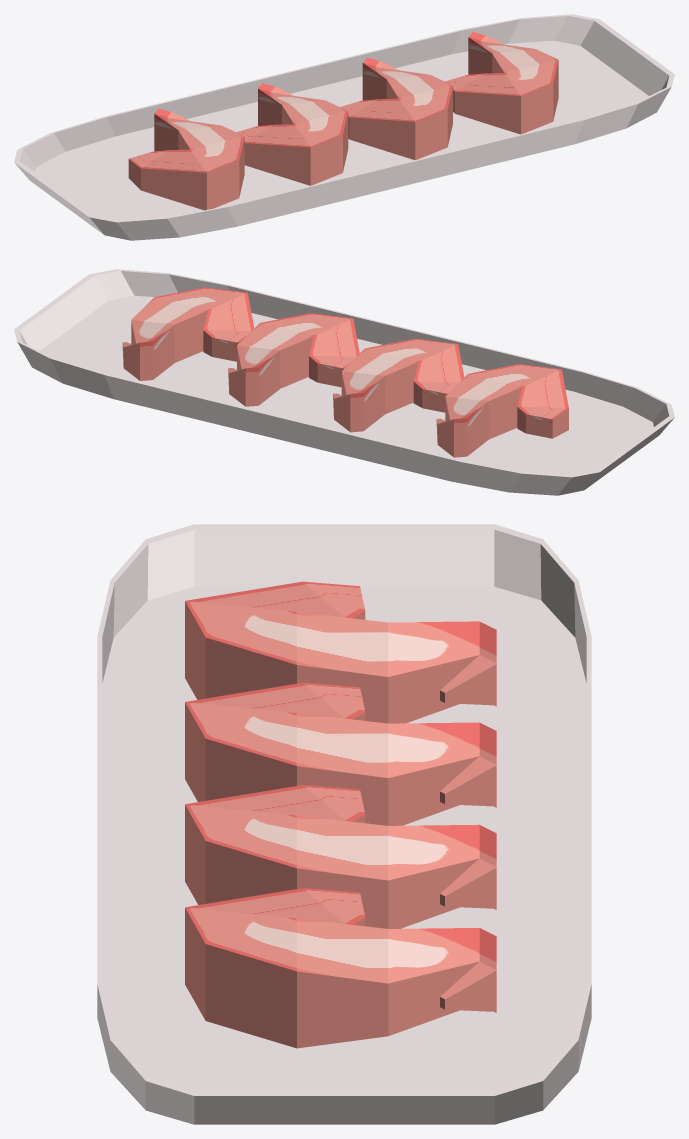
The model's file is Collectible Item.fbx_Chicken_Wing.fbx.
3 renders of one model, top to bottom at view 1: azimuth 30°, elevation 25°; view 2: azimuth 150°, elevation 25°; view 3: azimuth 270°, elevation 25°, orthographic. The views are drawn at different scales.
Parts seen in each view (by area): view 1: Chicken Wing Tray; view 2: Chicken Wing Tray; view 3: Chicken Wing Tray.
Part boxes in pixels (x1,y1,x2,y2): Chicken Wing Tray: [14, 14, 674, 240]; Chicken Wing Tray: [14, 269, 674, 495]; Chicken Wing Tray: [97, 524, 591, 1124].
Bounding box in the file's own units: 5.48 × 0.3573 × 2.
2 materials, 2 textured.
